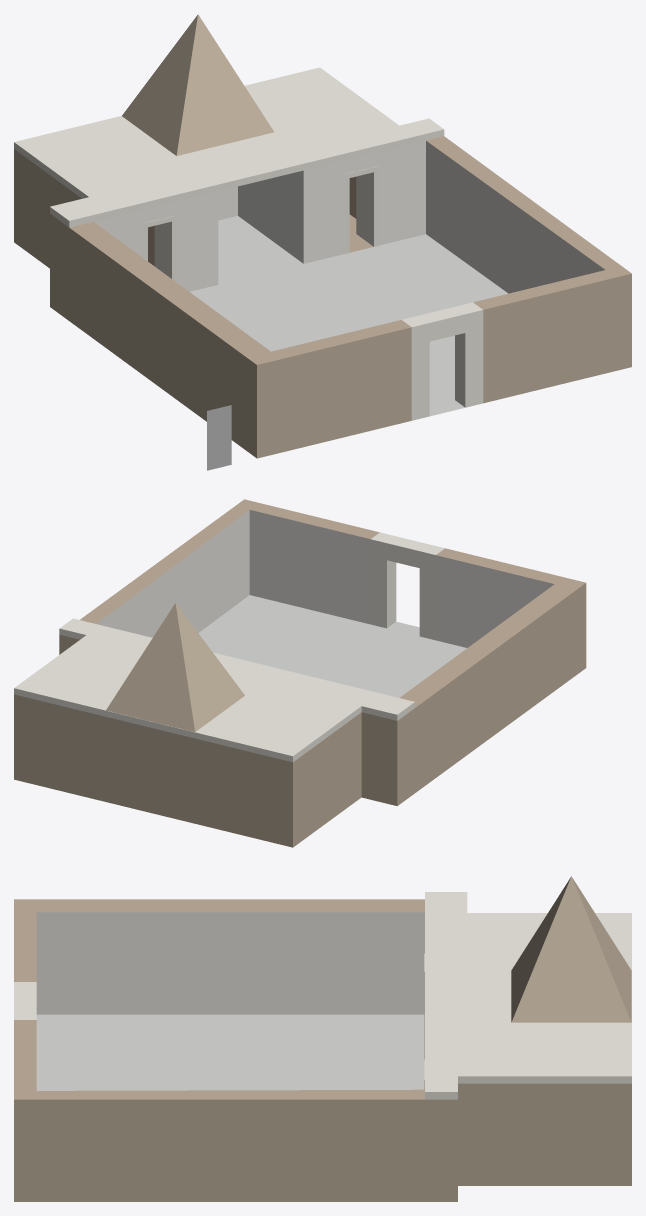
The model's file is Tomb3.glb.
The picture shows the model from 3 angles, top to bottom: view 1: azimuth 30°, elevation 25°; view 2: azimuth 150°, elevation 25°; view 3: azimuth 270°, elevation 25°; orthographic projection. The views are drawn at different scales.
Visible parts, largest first — view 1: Mesh2 Model, Mesh1 Component_4_1 Model, Mesh3 Model; view 2: Mesh2 Model, Mesh1 Component_4_1 Model; view 3: Mesh2 Model, Mesh1 Component_4_1 Model.
Part boxes in pixels (x1,y1,x2,y2): Mesh2 Model: [14, 67, 631, 458]; Mesh1 Component_4_1 Model: [122, 14, 273, 155]; Mesh3 Model: [207, 405, 231, 470]; Mesh2 Model: [14, 499, 586, 847]; Mesh1 Component_4_1 Model: [106, 603, 244, 731]; Mesh2 Model: [14, 892, 631, 1201]; Mesh1 Component_4_1 Model: [511, 876, 631, 1022].
Bounding box in the file's own units: 11.89 × 5.62 × 13.68.
